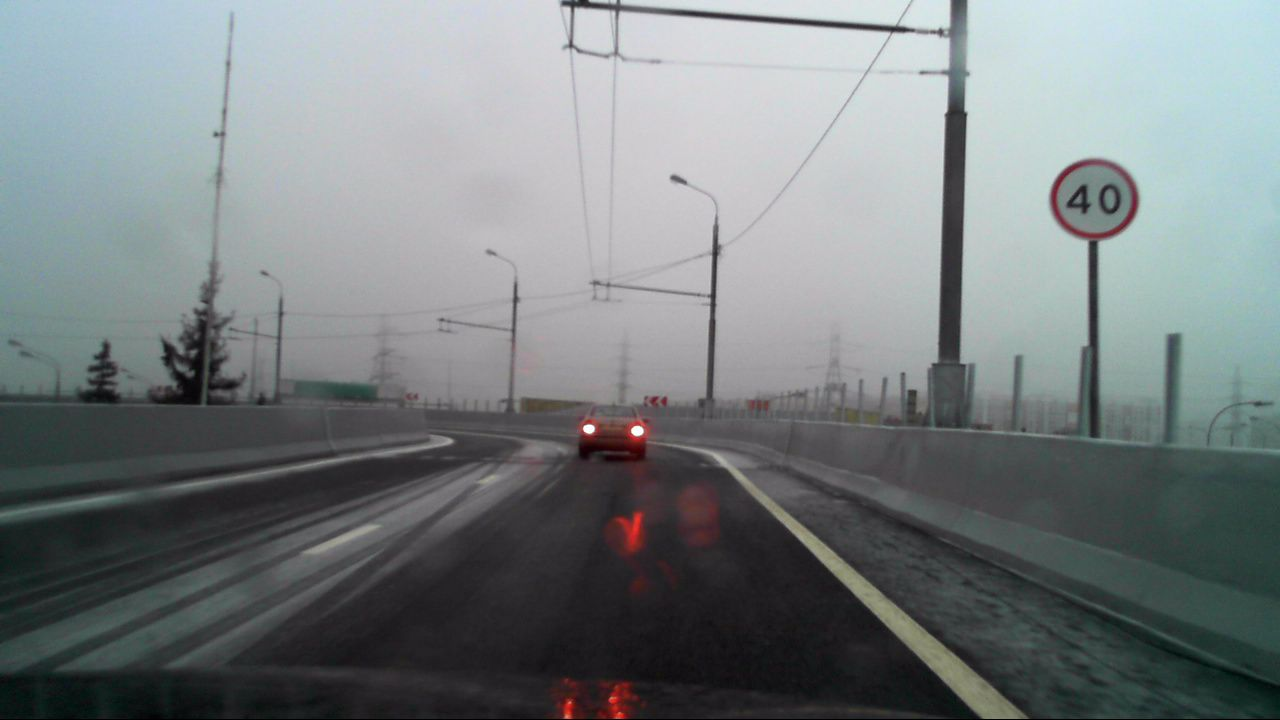speed_warning_40: (1048, 156, 1139, 240)
